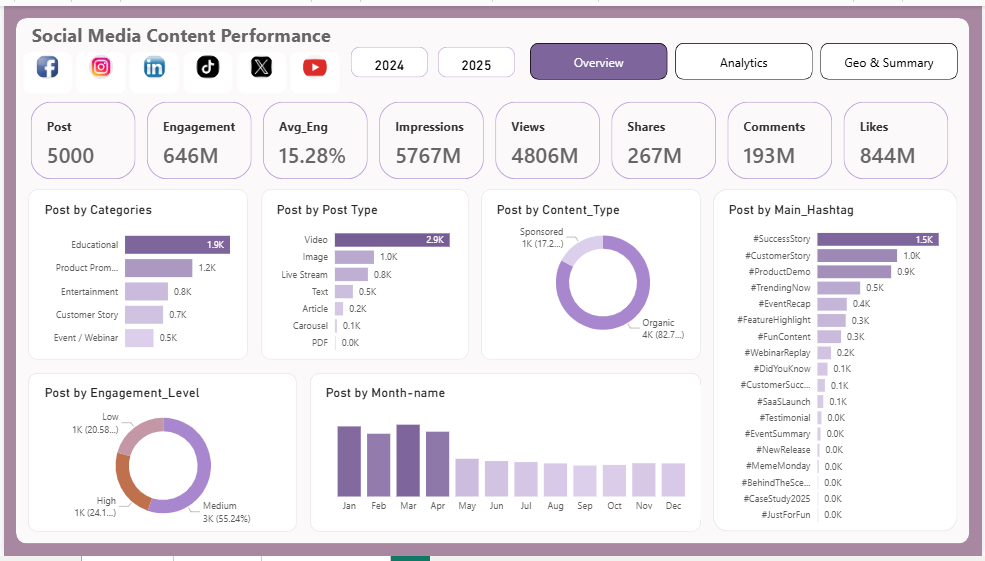

This screenshot's page, from the dashboard's own definition file:
{"tool":"powerbi","page":{"name":"Overview","canvas":[1280,720],"ordinal":0},"visuals":[{"type":"shape","box":[16,16,1248,688],"z":0},{"type":"shape","box":[336,240,272,224],"z":1000},{"type":"clusteredBarChart","title":"Post by Post Type","fields":{"Y":["Mes.Post"],"Category":["Sheet1.Post_Type"]},"box":[352,256,256,208],"z":2000},{"type":"shape","box":[928,240,320,448],"z":3000},{"type":"shape","box":[624,240,288,224],"z":4000},{"type":"donutChart","fields":{"Y":["Mes.Post"],"Category":["Sheet1.Content_Type"]},"box":[640,256,288,192],"z":5000},{"type":"shape","box":[32,480,352,208],"z":6000},{"type":"clusteredBarChart","fields":{"Y":["Mes.Post"],"Category":["Sheet1.Main_Hashtag"]},"box":[944,256,304,432],"z":7000},{"type":"shape","box":[400,480,512,208],"z":8000},{"type":"columnChart","fields":{"Category":["Sheet1.Month-name"],"Y":["Mes.Post"]},"box":[416,496,496,176],"z":9000},{"type":"donutChart","fields":{"Y":["Mes.Post"],"Category":["Sheet1.Engagement_Level"]},"box":[48,496,320,192],"z":10000},{"type":"shape","box":[32,240,288,224],"z":11000},{"type":"ChicletSlicer1448559807354","fields":{"Category":["Sheet1.Platform"],"Image":["Table.Img"]},"box":[17,57,430,72],"z":12000},{"type":"clusteredBarChart","fields":{"Y":["Mes.Post"],"Category":["Sheet1.Content_Category"]},"box":[48,256,272,208],"z":13000},{"type":"textbox","box":[32,16,560,48],"z":14000},{"type":"cardVisual","fields":{"Data":["Mes.Post","Mes.Total_Eng","Mes.Avg_Eng_rate","Sum(Sheet1.Impressions)","Mes.Total_views","Sum(Sheet1.Shares)","Sum(Sheet1.Comments)","Mes.Total_likes"]},"box":[30,121,1216,112],"z":15000},{"type":"advancedSlicerVisual","fields":{"Values":["Sheet1.Year"]},"box":[449,48,226,48],"z":16000},{"type":"pageNavigator","box":[688,48,560,48],"z":17000}]}

Visuals, with their boxes in screenshot pixels (x1, y1, x2, y2), scaled from the page's 1280x720 canvas onto the 985x561 screenshot:
shape: {"x1": 12, "y1": 12, "x2": 973, "y2": 549}
shape: {"x1": 259, "y1": 187, "x2": 468, "y2": 362}
"Post by Post Type" clusteredBarChart: {"x1": 271, "y1": 199, "x2": 468, "y2": 362}
shape: {"x1": 714, "y1": 187, "x2": 960, "y2": 536}
shape: {"x1": 480, "y1": 187, "x2": 702, "y2": 362}
donutChart - Mes.Post x Sheet1.Content_Type: {"x1": 492, "y1": 199, "x2": 714, "y2": 349}
shape: {"x1": 25, "y1": 374, "x2": 296, "y2": 536}
clusteredBarChart - Mes.Post x Sheet1.Main_Hashtag: {"x1": 726, "y1": 199, "x2": 960, "y2": 536}
shape: {"x1": 308, "y1": 374, "x2": 702, "y2": 536}
columnChart - Sheet1.Month-name x Mes.Post: {"x1": 320, "y1": 386, "x2": 702, "y2": 524}
donutChart - Mes.Post x Sheet1.Engagement_Level: {"x1": 37, "y1": 386, "x2": 283, "y2": 536}
shape: {"x1": 25, "y1": 187, "x2": 246, "y2": 362}
ChicletSlicer1448559807354 - Sheet1.Platform x Table.Img: {"x1": 13, "y1": 44, "x2": 344, "y2": 101}
clusteredBarChart - Mes.Post x Sheet1.Content_Category: {"x1": 37, "y1": 199, "x2": 246, "y2": 362}
textbox: {"x1": 25, "y1": 12, "x2": 456, "y2": 50}
cardVisual - Mes.Post x Mes.Total_Eng: {"x1": 23, "y1": 94, "x2": 959, "y2": 182}
advancedSlicerVisual - Sheet1.Year: {"x1": 346, "y1": 37, "x2": 519, "y2": 75}
pageNavigator: {"x1": 529, "y1": 37, "x2": 960, "y2": 75}
